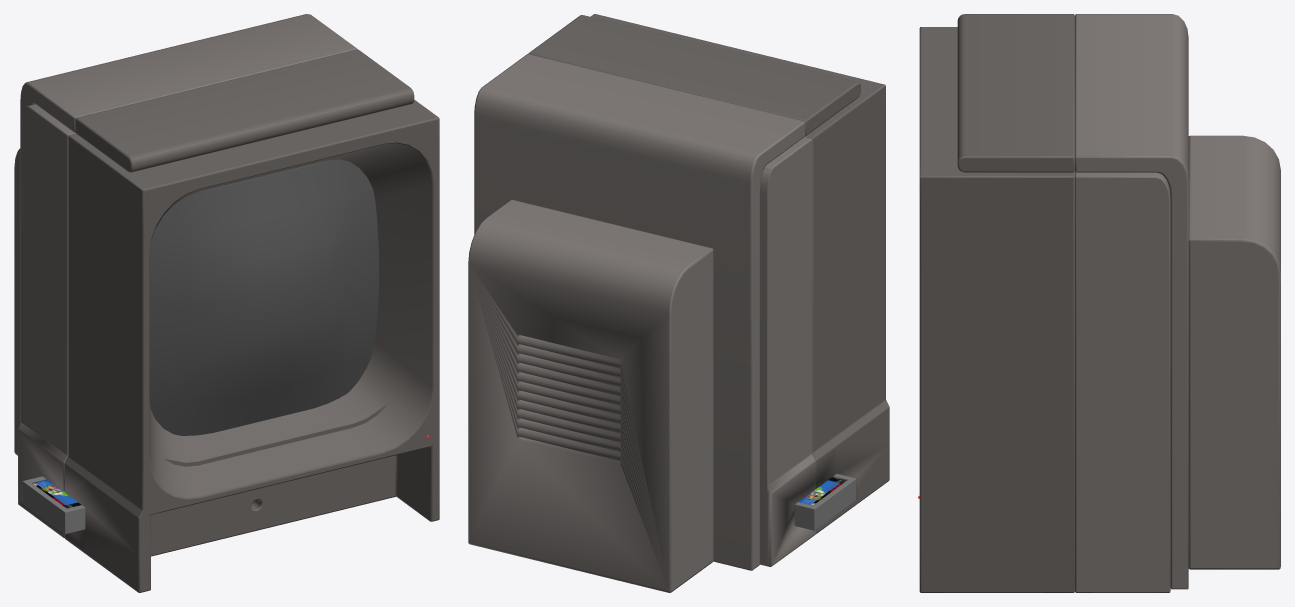
The model's file is retro_screen.glb.
The picture shows the model from 3 angles, left to right: view 1: azimuth 30°, elevation 25°; view 2: azimuth 150°, elevation 25°; view 3: azimuth 270°, elevation 25°; orthographic projection. The views are drawn at different scales.
Parts seen in each view (by area): view 1: TV; view 2: TV; view 3: TV.
Boxes of the visible parts, x1,y1,x2,y2 form: TV: (14,14,439,592); TV: (468,14,889,592); TV: (918,14,1280,592).
Bounding box in the file's own units: 0.3374 × 0.4204 × 0.319.
Materials: 1 (1 with a texture image).
